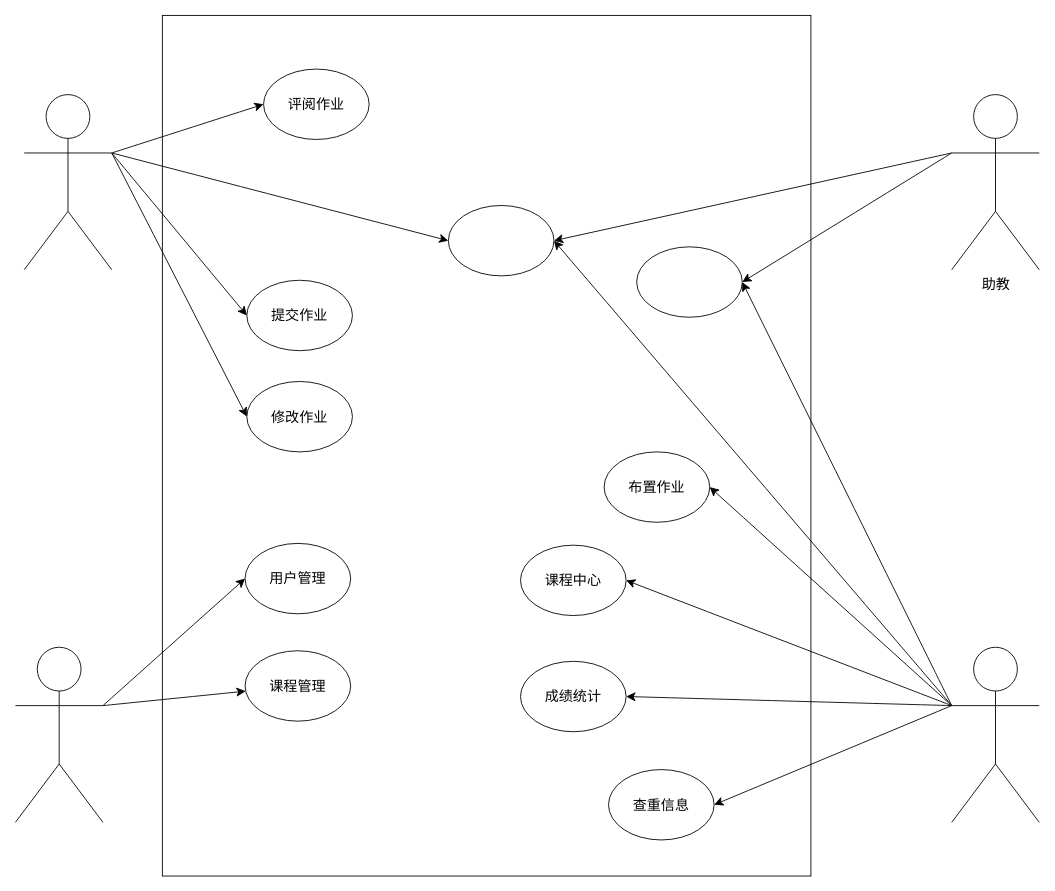
Some shapes in this 1055 by 891 pixel diagram are drawn without their labels. Here are the shapes that lost their labels. From the top down, the box of each, then its label:
(23, 94, 112, 270): 学生
(447, 205, 554, 276): 评阅记录
(636, 246, 742, 317): 任务分配
(15, 646, 103, 822): 管理员
(951, 646, 1039, 822): 教师
